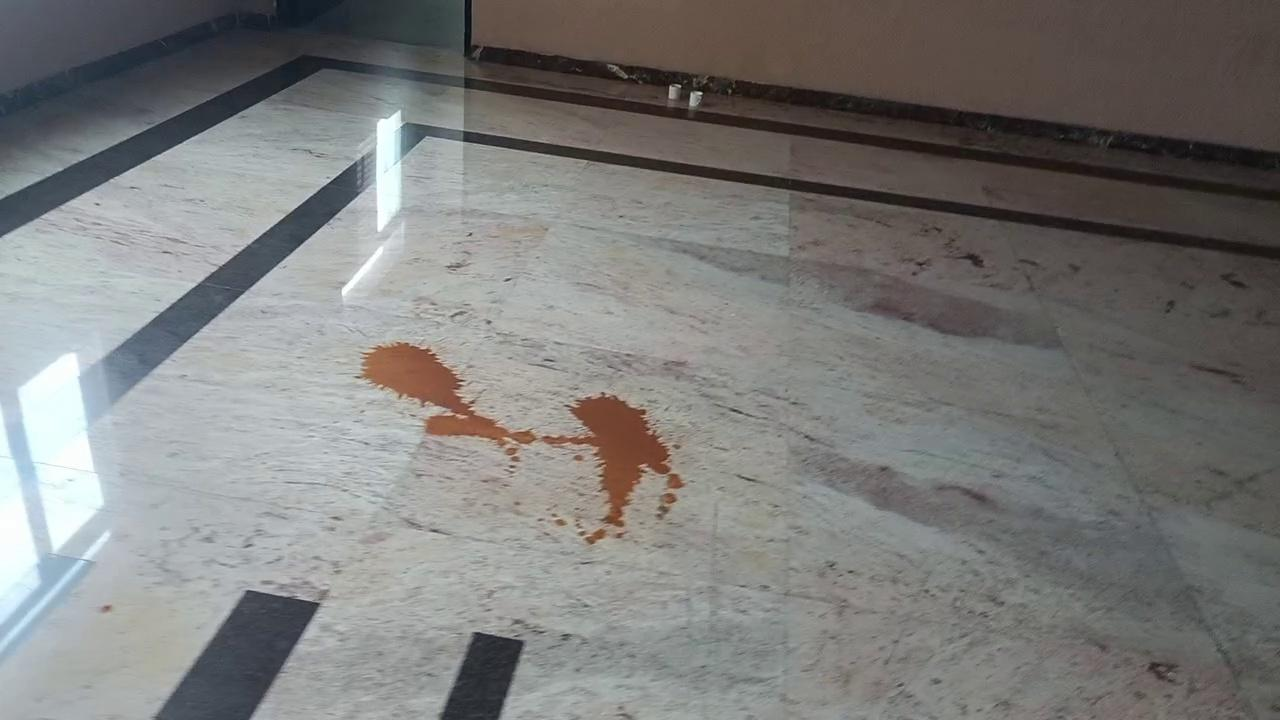dirty_floor: (353, 334, 685, 551)
